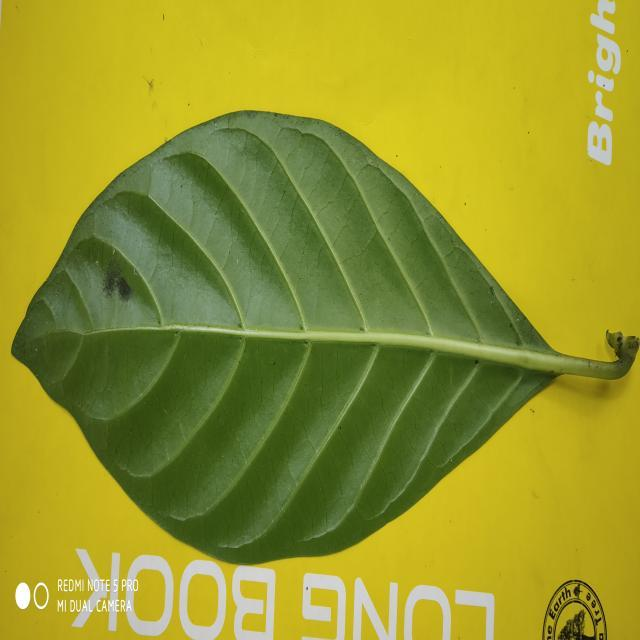leaf: (10, 107, 637, 565)
